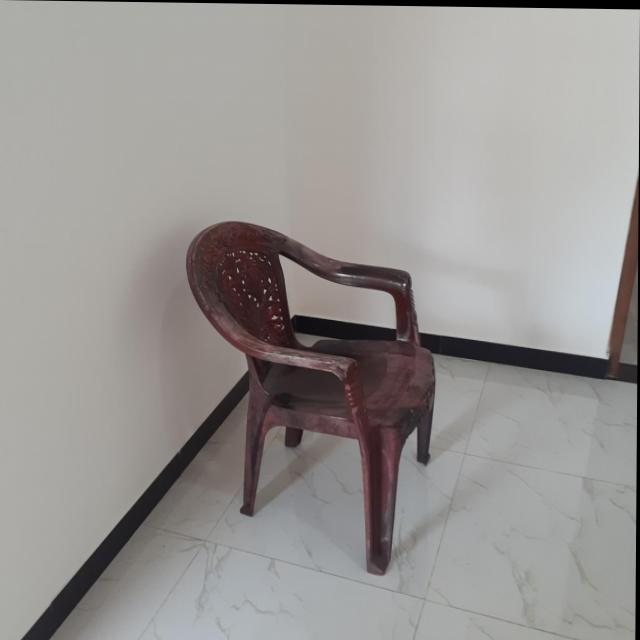Chair: (185, 218, 439, 569)
